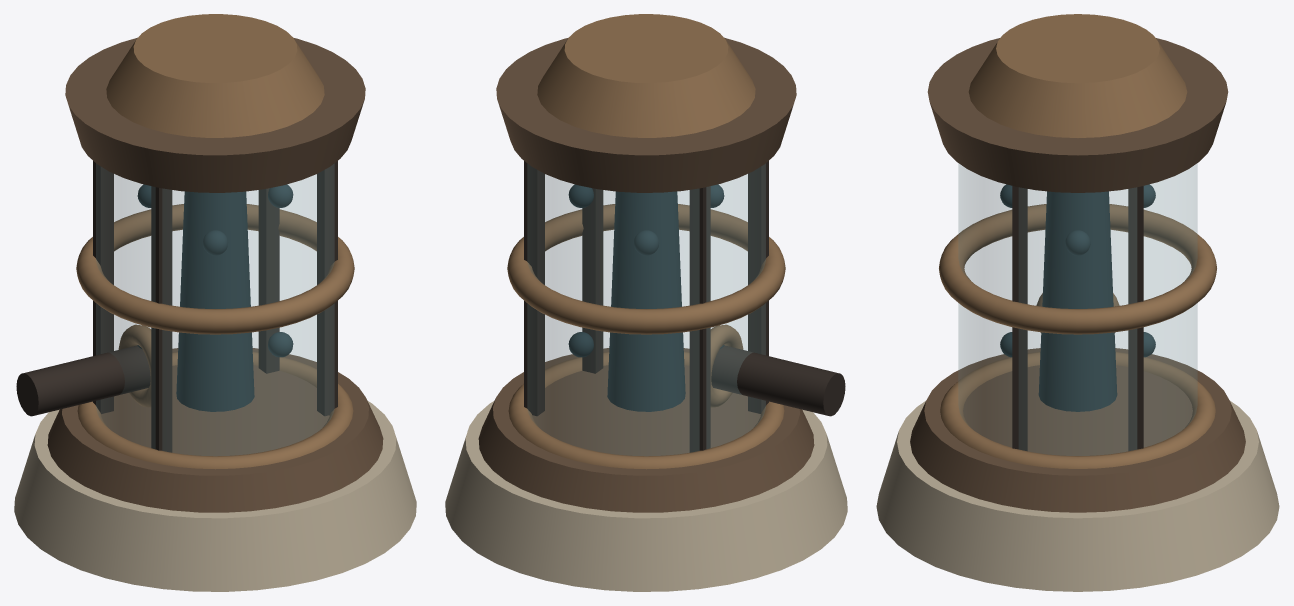
The model's file is cv_engine_room_cooling_manifold.glb.
The picture shows the model from 3 angles, left to right: view 1: azimuth 30°, elevation 25°; view 2: azimuth 150°, elevation 25°; view 3: azimuth 270°, elevation 25°; orthographic projection.
Parts seen in each view (by area): view 1: Glass_Reservoir, Stone_Plinth, Lower_Collar, Top_Cap, Upper_Collar, Inner_Core, Precision_Ring_1.54, Outlet_Pipe, Precision_Ring_0.59, Vertical_Support_-0.56_0.34, Vertical_Support_0.56_0.34, Vertical_Support_-0.56_-0.34 (+4 smaller); view 2: Glass_Reservoir, Stone_Plinth, Lower_Collar, Top_Cap, Upper_Collar, Inner_Core, Precision_Ring_1.54, Outlet_Pipe, Precision_Ring_0.59, Vertical_Support_-0.56_-0.34, Vertical_Support_0.56_-0.34, Vertical_Support_-0.56_0.34 (+4 smaller); view 3: Glass_Reservoir, Stone_Plinth, Lower_Collar, Top_Cap, Upper_Collar, Inner_Core, Precision_Ring_1.54, Precision_Ring_0.59, Vertical_Support_0.56_-0.34, Vertical_Support_0.56_0.34, Distribution_Node_1.
Part boxes in pixels (x1,y1,x2,y2): Glass_Reservoir: [96, 164, 334, 455]; Stone_Plinth: [14, 401, 416, 591]; Lower_Collar: [47, 348, 383, 512]; Top_Cap: [106, 14, 324, 137]; Upper_Collar: [65, 37, 365, 192]; Inner_Core: [176, 191, 254, 411]; Precision_Ring_1.54: [76, 204, 354, 334]; Outlet_Pipe: [16, 345, 150, 416]; Precision_Ring_0.59: [77, 351, 353, 469]; Vertical_Support_-0.56_0.34: [151, 186, 172, 452]; Vertical_Support_0.56_0.34: [317, 161, 337, 416]; Vertical_Support_-0.56_-0.34: [93, 161, 113, 413]; Glass_Reservoir: [527, 164, 765, 455]; Stone_Plinth: [445, 401, 847, 591]; Lower_Collar: [478, 348, 814, 512]; Top_Cap: [537, 14, 755, 137]; Upper_Collar: [496, 37, 796, 192]; Inner_Core: [607, 191, 685, 411]; Precision_Ring_1.54: [507, 204, 785, 334]; Outlet_Pipe: [711, 345, 845, 416]; Precision_Ring_0.59: [508, 351, 784, 469]; Vertical_Support_-0.56_-0.34: [689, 186, 710, 452]; Vertical_Support_0.56_-0.34: [524, 161, 544, 416]; Vertical_Support_-0.56_0.34: [748, 161, 768, 413]; Glass_Reservoir: [958, 163, 1197, 455]; Stone_Plinth: [876, 401, 1279, 591]; Lower_Collar: [910, 348, 1245, 512]; Top_Cap: [968, 14, 1187, 137]; Upper_Collar: [927, 38, 1228, 192]; Inner_Core: [1038, 191, 1117, 411]; Precision_Ring_1.54: [939, 204, 1216, 334]; Precision_Ring_0.59: [940, 351, 1215, 468]; Vertical_Support_0.56_-0.34: [1128, 186, 1143, 451]; Vertical_Support_0.56_0.34: [1012, 186, 1027, 451]; Distribution_Node_1: [1065, 230, 1090, 255].
Size of the model in its own units: 2.45 by 2.96 by 2.36.
